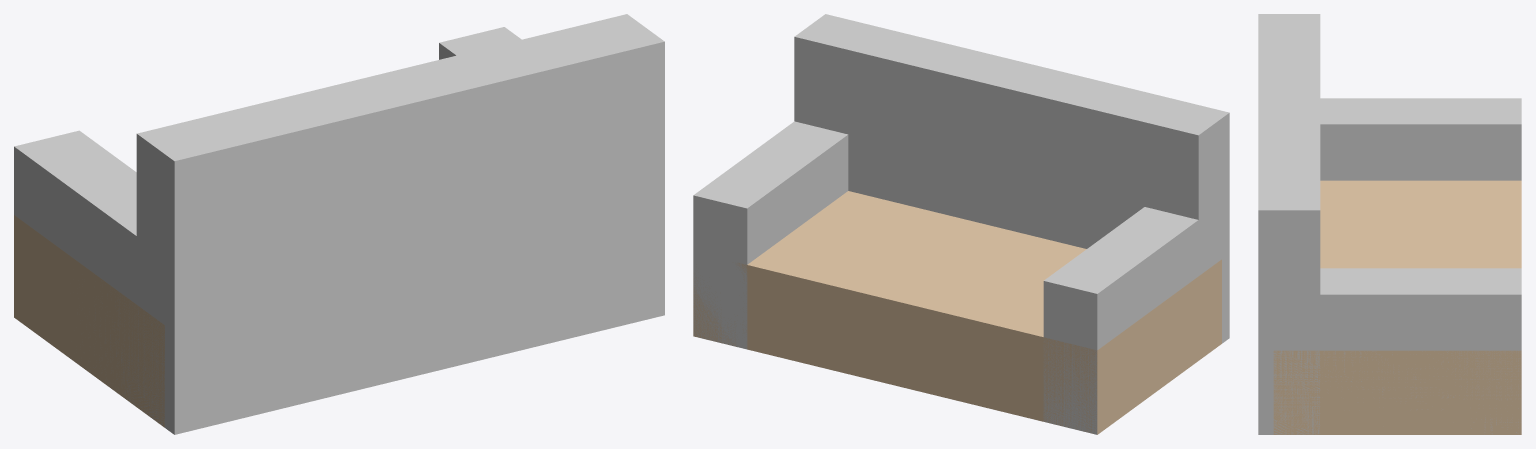
Rendered from cannoli-sofa.glb.
3 renders of one model, left to right at view 1: azimuth 30°, elevation 25°; view 2: azimuth 150°, elevation 25°; view 3: azimuth 270°, elevation 25°, orthographic. The views are drawn at different scales.
Visible parts, largest first — view 1: Cannoli_Back, Cannoli_ArmLeft, Cannoli_Base, Cannoli_ArmRight; view 2: Cannoli_Base, Cannoli_Back, Cannoli_ArmLeft, Cannoli_ArmRight; view 3: Cannoli_Base, Cannoli_Back, Cannoli_ArmRight, Cannoli_ArmLeft.
Part boxes in pixels (x1,y1,x2,y2): Cannoli_Back: [136, 14, 664, 434]; Cannoli_ArmLeft: [14, 130, 164, 425]; Cannoli_Base: [14, 215, 164, 427]; Cannoli_ArmRight: [439, 27, 521, 59]; Cannoli_Base: [693, 191, 1221, 434]; Cannoli_Back: [794, 14, 1229, 343]; Cannoli_ArmLeft: [1043, 203, 1221, 434]; Cannoli_ArmRight: [693, 121, 848, 349]; Cannoli_Base: [1273, 180, 1521, 434]; Cannoli_Back: [1258, 14, 1320, 434]; Cannoli_ArmRight: [1273, 268, 1521, 433]; Cannoli_ArmLeft: [1320, 98, 1521, 180].
Size of the model in its own units: 3 by 1.6 by 1.7.
